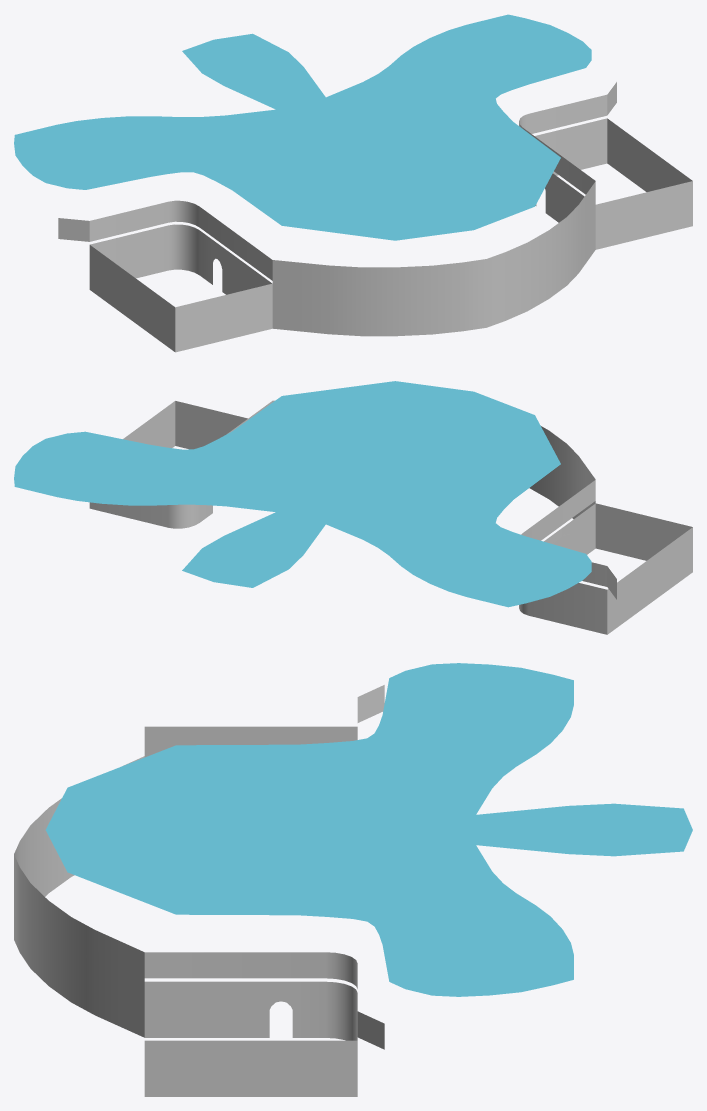
File: walls and ceiling.fbx
3 views of the same model, one above another, from view 1: azimuth 30°, elevation 25°; view 2: azimuth 150°, elevation 25°; view 3: azimuth 270°, elevation 25° (orthographic). The views are drawn at different scales.
Visible parts, largest first — view 1: Cube.021, Cube, Cube.017, Cube.001; view 2: Cube.021, Cube, Cube.017, Cube.001; view 3: Cube.021, Cube, Cube.017, Cube.001.
Boxes of the visible parts, x1,y1,x2,y2 form: Cube.021: [14, 14, 591, 240]; Cube: [89, 118, 692, 352]; Cube.017: [272, 181, 595, 336]; Cube.001: [58, 82, 616, 280]; Cube.021: [14, 381, 591, 607]; Cube: [89, 401, 692, 634]; Cube.017: [272, 400, 595, 519]; Cube.001: [227, 401, 616, 599]; Cube.021: [45, 663, 692, 996]; Cube: [144, 726, 357, 1096]; Cube.017: [14, 756, 144, 1037]; Cube.001: [144, 685, 384, 1049].
Size of the model in its own units: 5747 by 868 by 4865.
